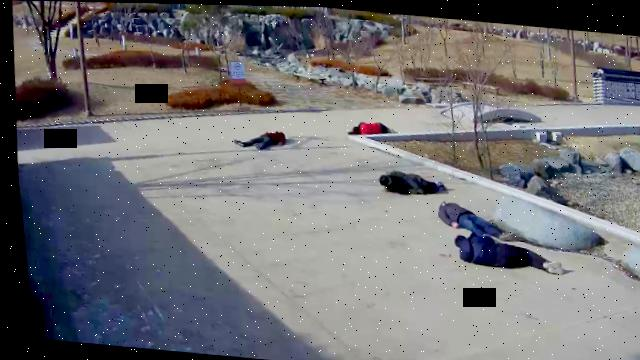fall: (444, 231, 562, 273), (431, 197, 512, 240), (369, 167, 445, 199), (226, 125, 284, 152), (343, 115, 394, 138)
